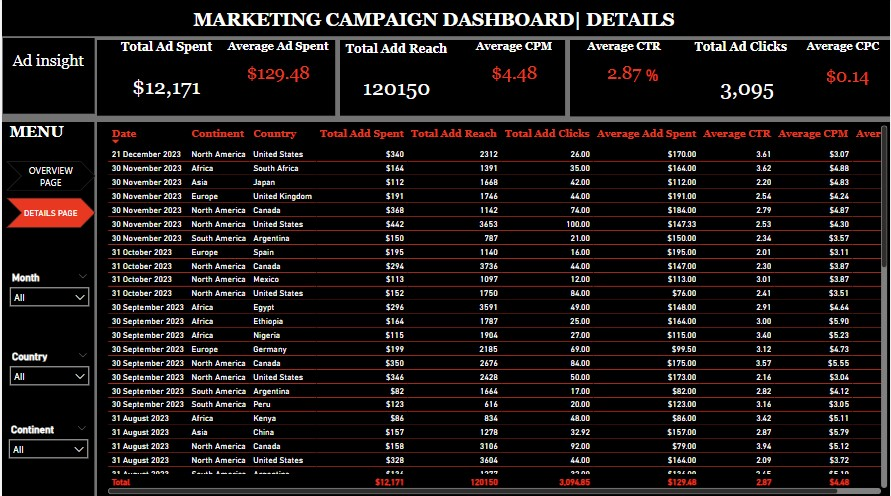

This screenshot's page, from the dashboard's own definition file:
{"tool":"powerbi","page":{"name":"DETAILS PAGE","canvas":[1280,720],"ordinal":1},"visuals":[{"type":"shape","box":[0,178.3,133.3,541.7],"z":0},{"type":"shape","box":[136.7,178.3,1143.3,541.7],"z":1000},{"type":"shape","box":[0,0,1280,55],"z":2000},{"type":"shape","box":[818.3,60,461.7,110],"z":3000},{"type":"textbox","box":[221.7,11.7,800,43.3],"z":4000},{"type":"tableEx","fields":{"Values":["Dataset.Date","Dataset.Continent","Dataset.Country","Formulas.Total Add Spent","Formulas.Total Add Reach","Formulas.Total Add Clicks","Formulas.Average Add Spent","Formulas.Average CTR","Formulas.Average CPM","Formulas.Average CPC"]},"box":[146.9,178.6,1133.3,541.4],"z":7000},{"type":"slicer","fields":{"Values":["Dataset.Month"]},"box":[1.4,388.8,133.9,72],"z":8000},{"type":"slicer","fields":{"Values":["Dataset.Country"]},"box":[1.4,502.6,133.9,105.1],"z":9000},{"type":"slicer","fields":{"Values":["Dataset.Continent"]},"box":[0,607.7,133.9,112.3],"z":10000},{"type":"textbox","title":"MENU","box":[5.8,178.6,123.8,30.2],"z":11000},{"type":"pageNavigator","box":[5.8,234.7,129.6,96.5],"z":12000},{"type":"shape","box":[1.4,57.6,132.5,109.4],"z":13000},{"type":"card","title":"Average CTR","fields":{"Values":["Formulas.Average CTR"]},"box":[817.9,60.5,155.5,74.9],"z":14000,"group":"g1"},{"type":"textbox","title":"Ad insight","box":[10.1,76.3,119.5,36],"z":14000},{"type":"card","title":"Total Ad Clicks","fields":{"Values":["Formulas.Total Add Clicks"]},"box":[991.7,60,161.7,115],"z":17000},{"type":"card","title":"Average CPC","fields":{"Values":["Formulas.Average CPC"]},"box":[1153.4,60.5,126.7,83.5],"z":19000},{"type":"shape","box":[486.7,60.5,325.4,109.4],"z":20001},{"type":"card","title":"Total Add Reach","fields":{"Values":["Formulas.Total Add Reach"]},"box":[486.7,63.4,162.7,109.4],"z":20002},{"type":"shape","box":[136.8,60.5,342.7,109.4],"z":20004},{"type":"card","title":"Total Ad Spent","fields":{"Values":["Formulas.Total Add Spent"]},"box":[161.3,60.5,151.2,112.3],"z":20005},{"type":"card","title":"Average Ad Spent","fields":{"Values":["Formulas.Average Add Spent"]},"box":[315.4,60.5,164.2,74.9],"z":20006},{"type":"group","id":"g1","title":"Group 1","box":[817.9,60.5,155.5,74.9],"z":20007},{"type":"card","title":"Average CPM","fields":{"Values":["Formulas.Average CPM"]},"box":[662.4,60.5,149.8,74.9],"z":20008},{"type":"textbox","title":"%","box":[921.6,97.9,33.1,34.6],"z":24003,"group":"g1"}]}

Visuals, with their boxes in screenshot pixels (x1, y1, x2, y2), scaled from the page's 1280x720 canvas onto the 891x496 screenshot:
shape: 0, 123, 93, 495
shape: 95, 123, 890, 495
shape: 0, 0, 890, 38
shape: 570, 41, 890, 117
textbox: 154, 8, 711, 38
tableEx - Dataset.Date x Dataset.Continent: 102, 123, 890, 495
slicer - Dataset.Month: 1, 268, 94, 317
slicer - Dataset.Country: 1, 346, 94, 419
slicer - Dataset.Continent: 0, 419, 93, 495
"MENU" textbox: 4, 123, 90, 144
pageNavigator: 4, 162, 94, 228
shape: 1, 40, 93, 115
"Average CTR" card: 569, 42, 678, 93
"Ad insight" textbox: 7, 53, 90, 77
"Total Ad Clicks" card: 690, 41, 803, 121
"Average CPC" card: 803, 42, 890, 99
shape: 339, 42, 565, 117
"Total Add Reach" card: 339, 44, 452, 119
shape: 95, 42, 334, 117
"Total Ad Spent" card: 112, 42, 218, 119
"Average Ad Spent" card: 220, 42, 334, 93
"Group 1" group: 569, 42, 678, 93
"Average CPM" card: 461, 42, 565, 93
"%" textbox: 642, 67, 665, 91
